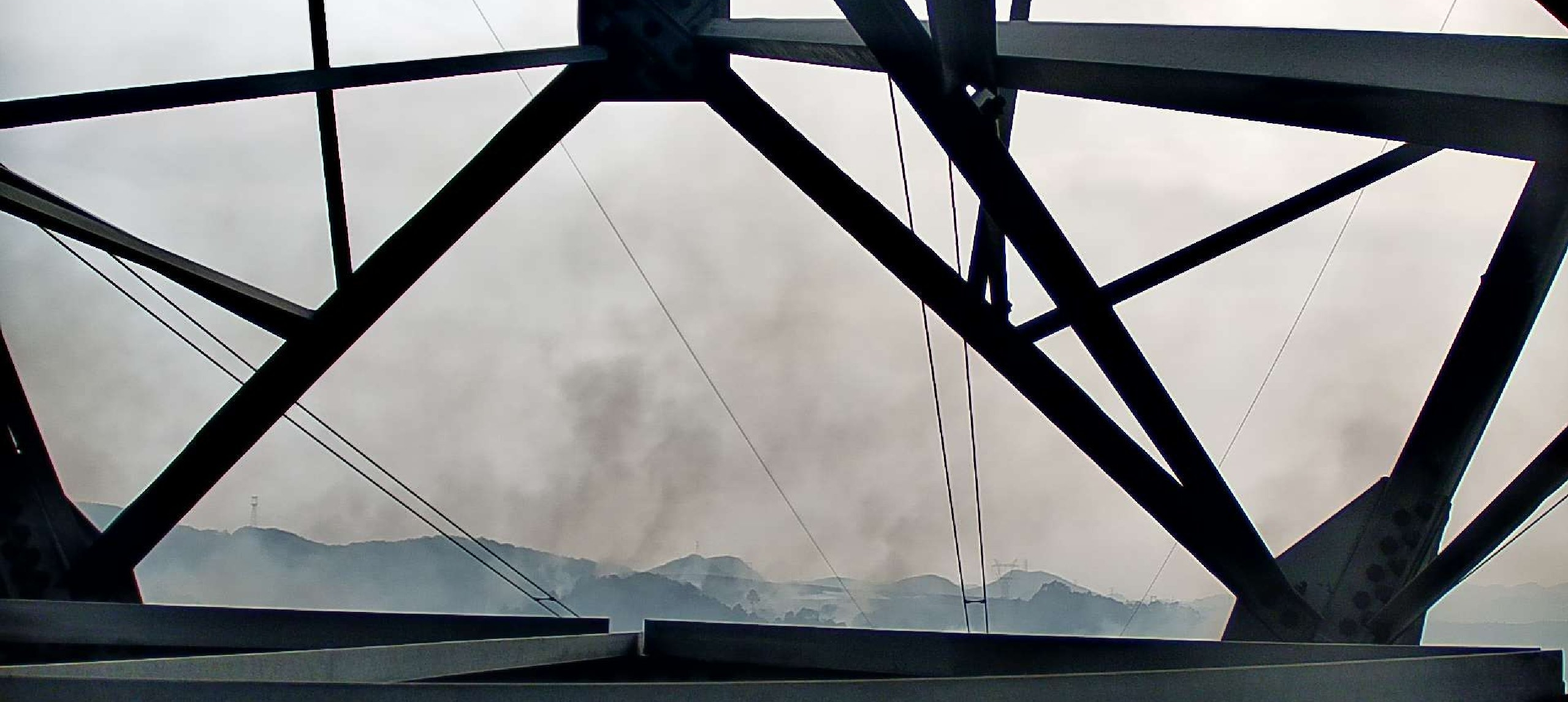烟雾: (0, 0, 1567, 660)
